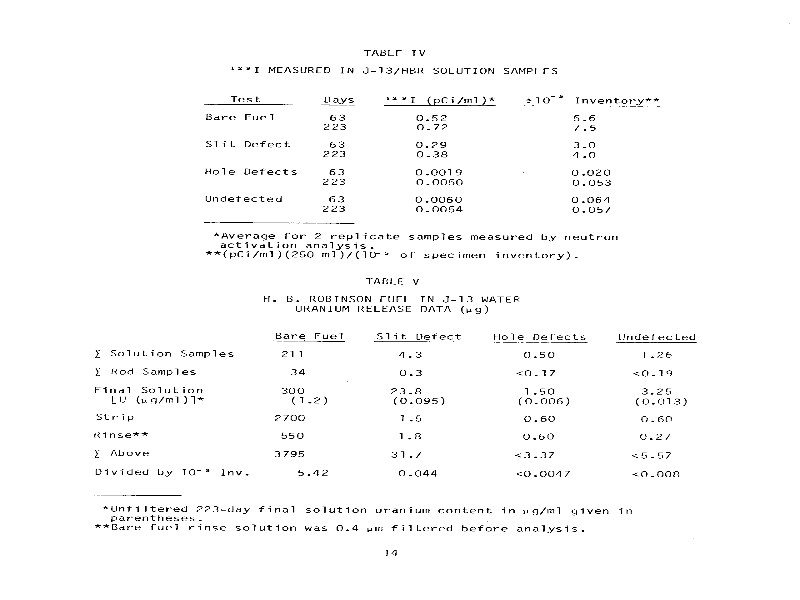table: (90, 322, 707, 497), (201, 85, 661, 229)
